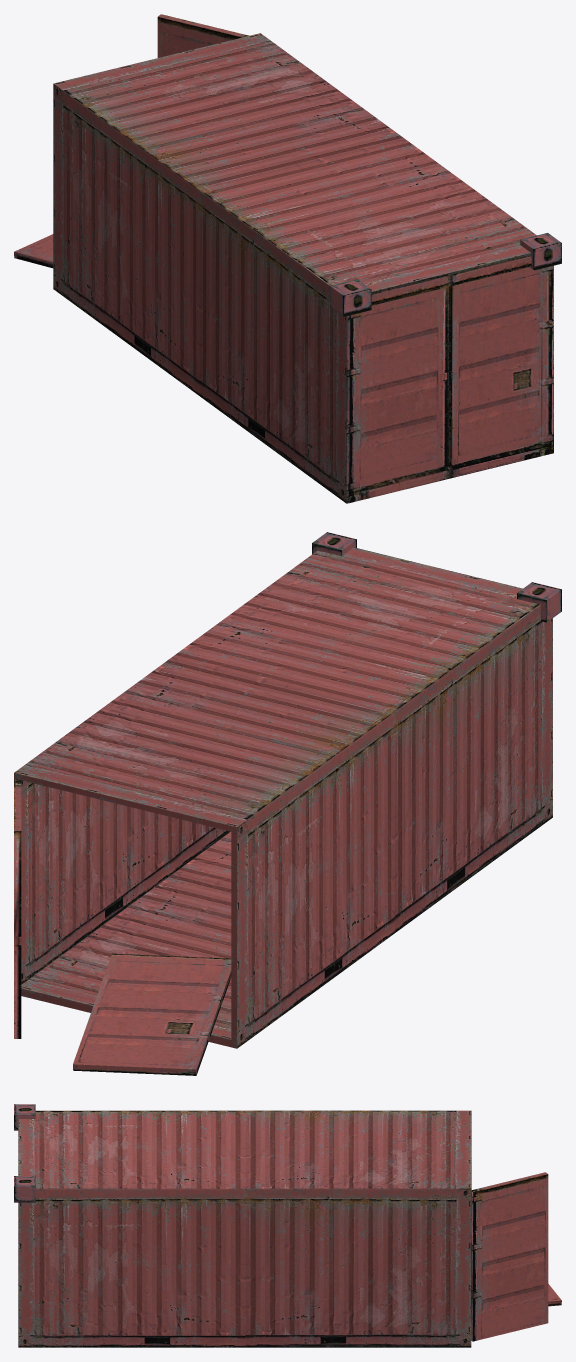
The model's file is Cover_Container10.glb.
The picture shows the model from 3 angles, top to bottom: view 1: azimuth 30°, elevation 25°; view 2: azimuth 150°, elevation 25°; view 3: azimuth 270°, elevation 25°; orthographic projection. The views are drawn at different scales.
Visible parts, largest first — view 1: xiutz_container10; view 2: xiutz_container10; view 3: xiutz_container10.
Part boxes in pixels (x1,y1,x2,y2): xiutz_container10: (14, 14, 561, 503); xiutz_container10: (14, 532, 561, 1075); xiutz_container10: (14, 1104, 561, 1347).
Bounding box in the file's own units: 4.81 × 4.47 × 13.57.
1 material, 1 textured.
